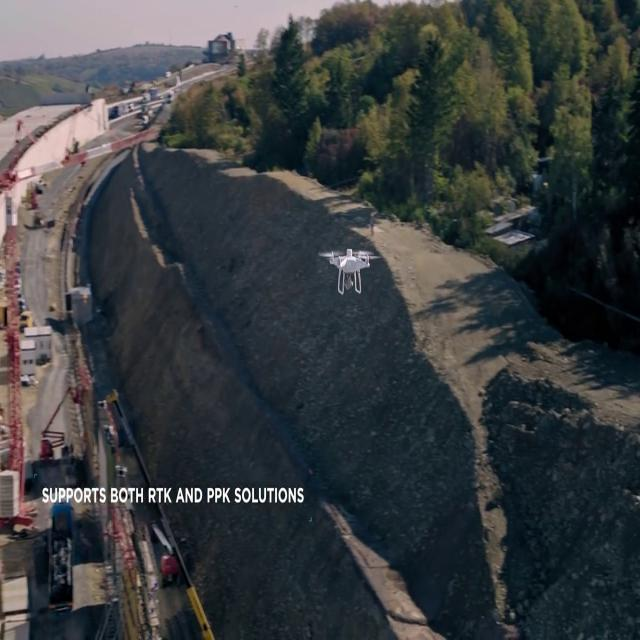drone: (316, 248, 382, 296)
